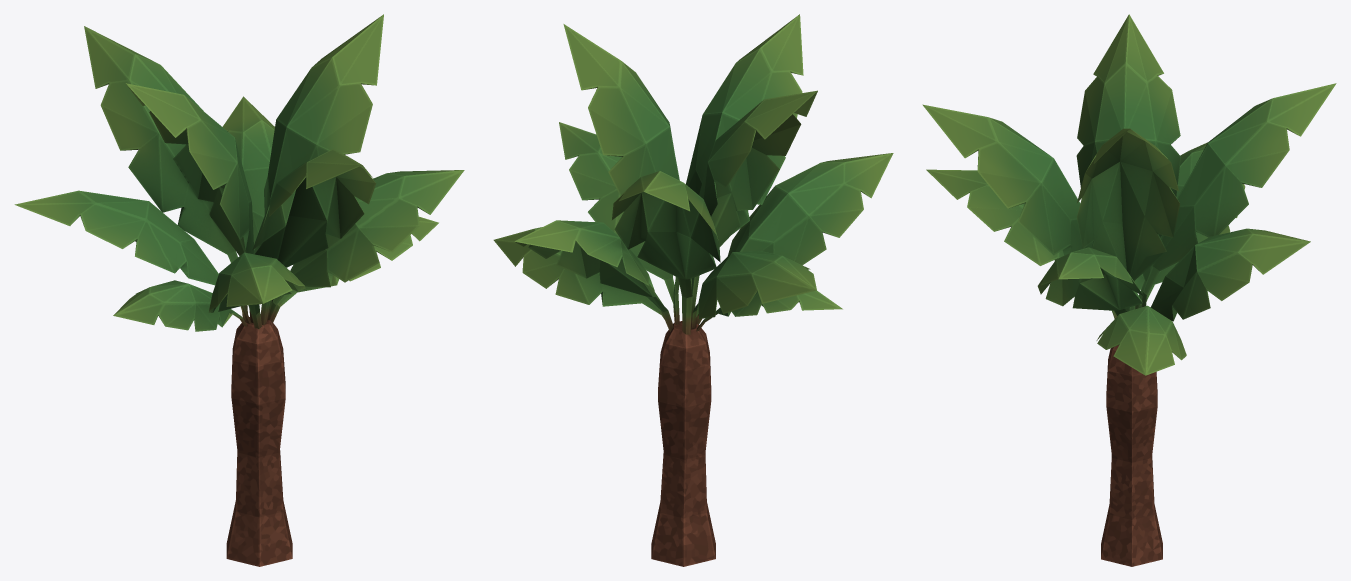
Rendered from palm tree_1.gltf.glb.
3 renders of one model, left to right at view 1: azimuth 30°, elevation 25°; view 2: azimuth 150°, elevation 25°; view 3: azimuth 270°, elevation 25°, orthographic. The views are drawn at different scales.
Visible parts, largest first — view 1: node-0; view 2: node-0; view 3: node-0.
Boxes of the visible parts, box(x1,y1,x2,y2) form: node-0: box(14, 14, 464, 566); node-0: box(493, 14, 893, 566); node-0: box(922, 14, 1336, 566).
Size of the model in its own units: 7.97 by 10.23 by 8.01.
1 material, 1 textured.
